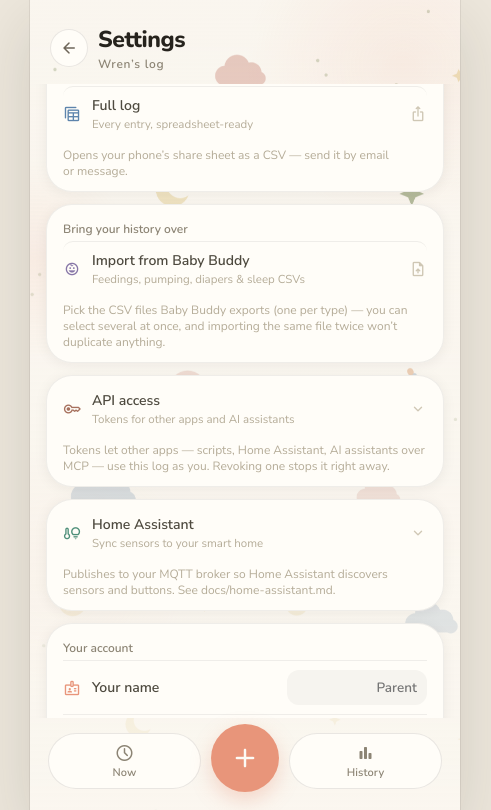
Test: API access card › expanding fetches and lists the tokens with scopes and expiry hints
The image size is (491, 810).
(page scrolled)
Click the text "API access" at x=126, y=400, box [92,391,160,410]
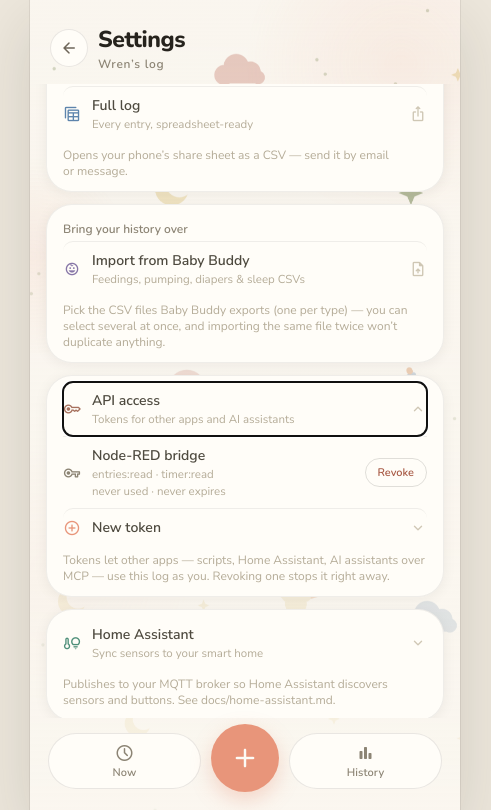
Expected: the text "Node-RED bridge" is shown, [92,446,205,465]
Expected: the text "entries:read · timer:read" is shown, [92,466,214,482]
Expected: the text "never used · never expires" is shown, [92,483,226,499]
